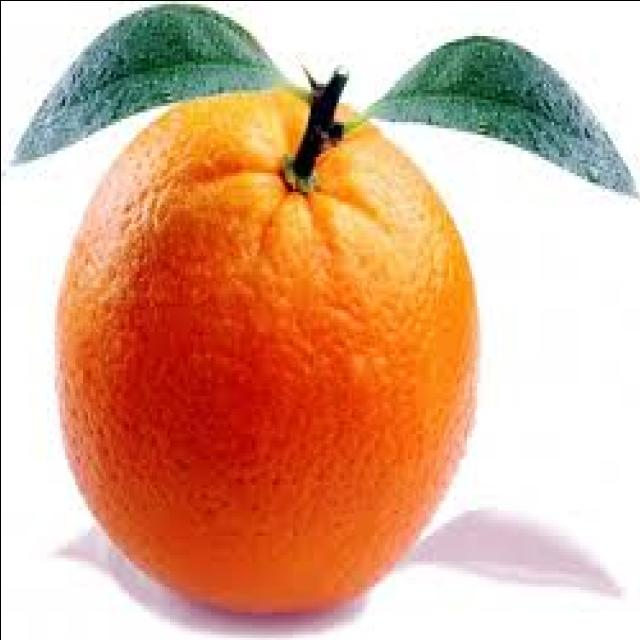orange: (35, 51, 487, 640)
